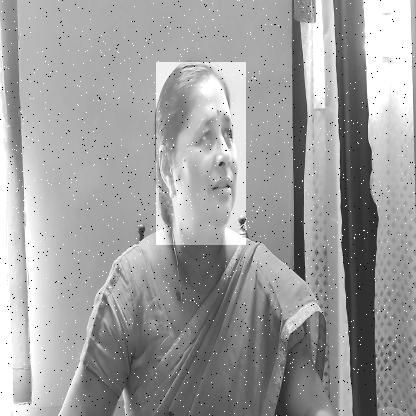Distracted: (156, 62, 246, 245)
